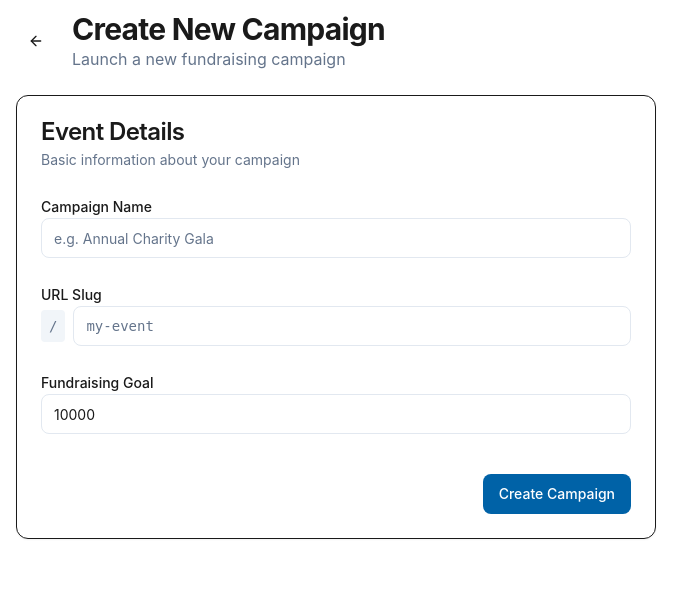
Test: CreateEventPage › validates required fields
Click the button "Create Campaign" at x=557, y=494, box [483,474,631,514]
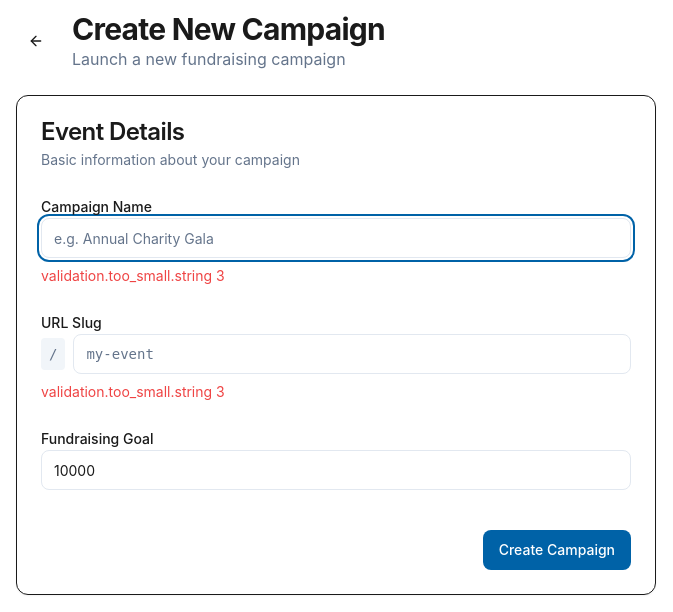
Expected: the text "validation.too_small.string 3" below "Campaign Name" is shown, [41,267,225,284]
Expected: the text "validation.too_small.string 3" below "URL Slug" is shown, [41,383,225,400]
